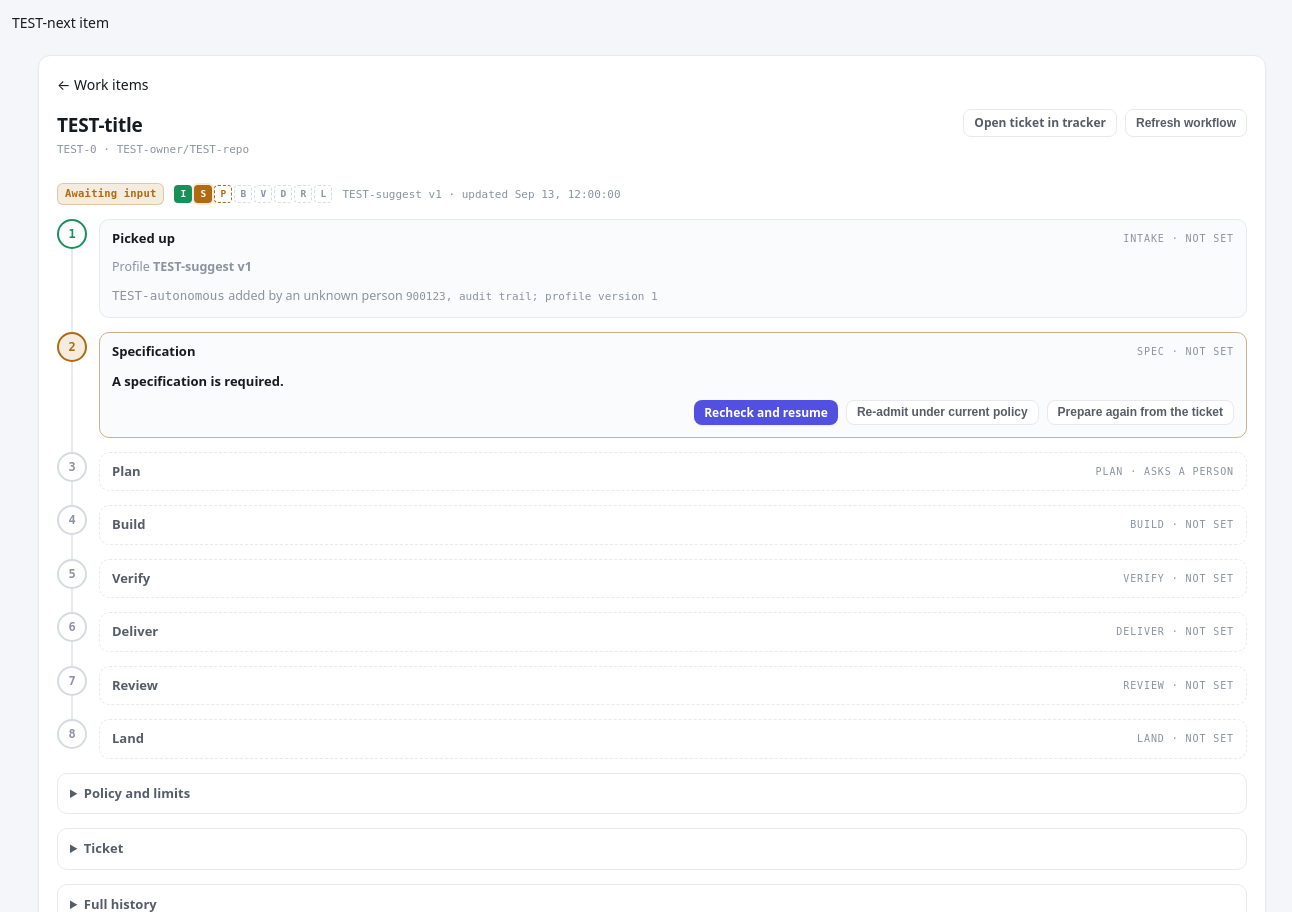
Test: names the rule that stopped a recheck and keeps it after the page re-reads
This screenshot has width=1292, height=912.
Click the button "Recheck and resume" at (766,412), box [694,400,838,425]
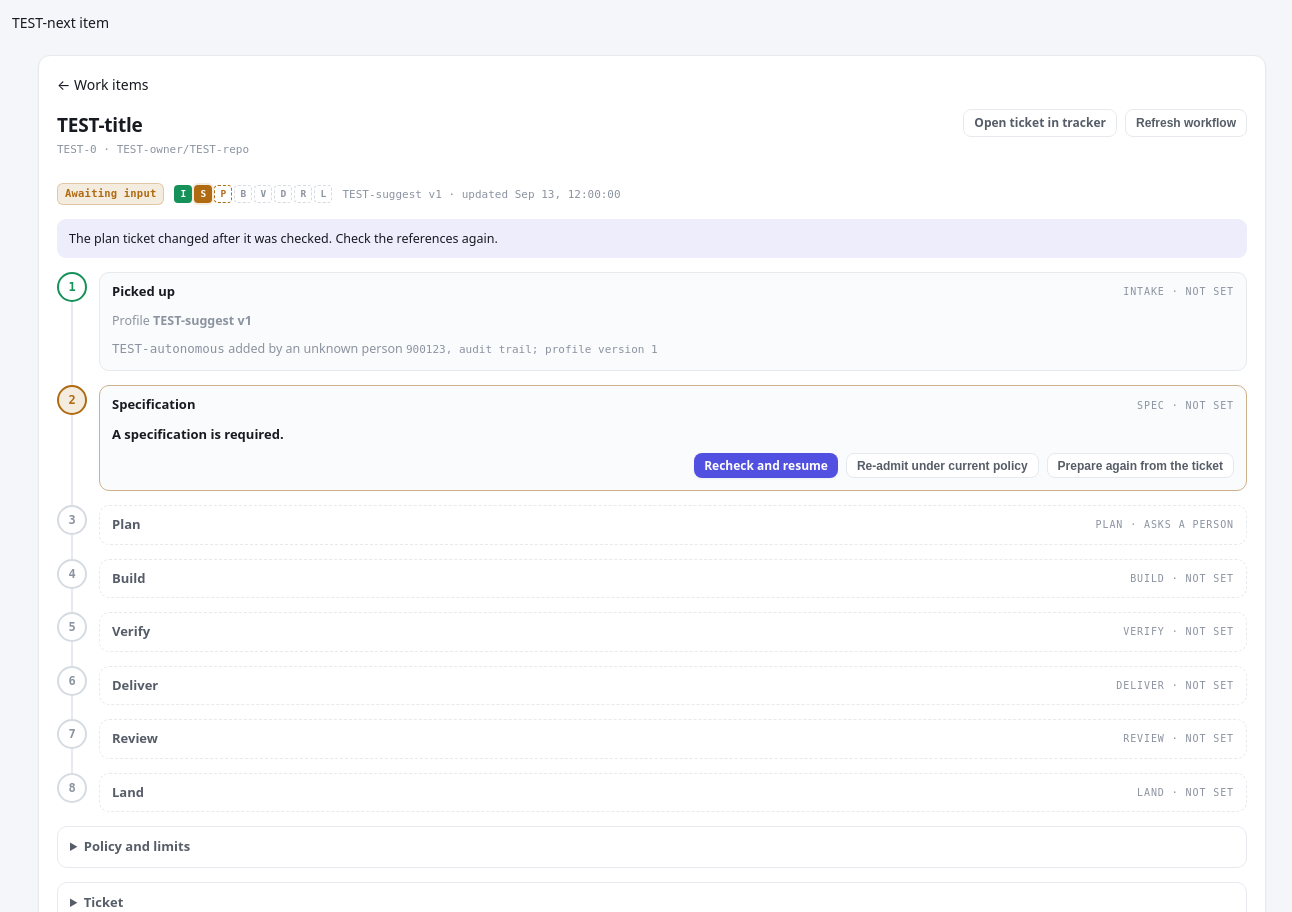
Expected: the text "The plan ticket changed after it was checked. Check the references again." is shown, [57,219,1247,258]
